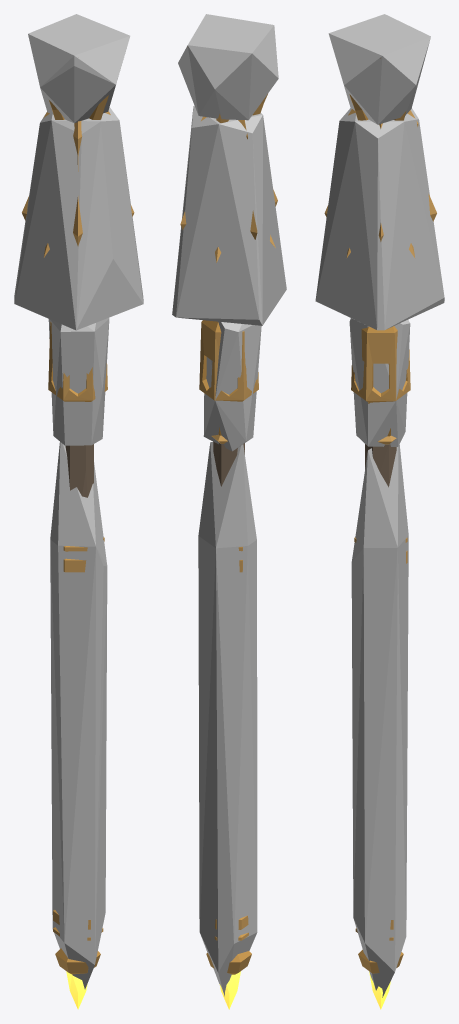
File: SM_Wep_Glaive_02.fbx
3 views of the same model, side by side, from view 1: azimuth 90°, elevation 25°; view 2: azimuth 210°, elevation 25°; view 3: azimuth 270°, elevation 25° (orthographic).
Visible parts, largest first — view 1: SM_Wep_Glaive_02_ConvexHulls, SM_Wep_Glaive_02; view 2: SM_Wep_Glaive_02_ConvexHulls, SM_Wep_Glaive_02; view 3: SM_Wep_Glaive_02_ConvexHulls, SM_Wep_Glaive_02.
Boxes of the visible parts, x1,y1,x2,y2 form: SM_Wep_Glaive_02_ConvexHulls: (14,14,143,989); SM_Wep_Glaive_02: (22,95,134,1009); SM_Wep_Glaive_02_ConvexHulls: (172,14,286,996); SM_Wep_Glaive_02: (180,47,277,1009); SM_Wep_Glaive_02_ConvexHulls: (315,14,444,997); SM_Wep_Glaive_02: (324,58,436,1009).
Size of the model in its own units: 25.48 by 25.49 by 212.
Materials: 2 (1 with a texture image).
